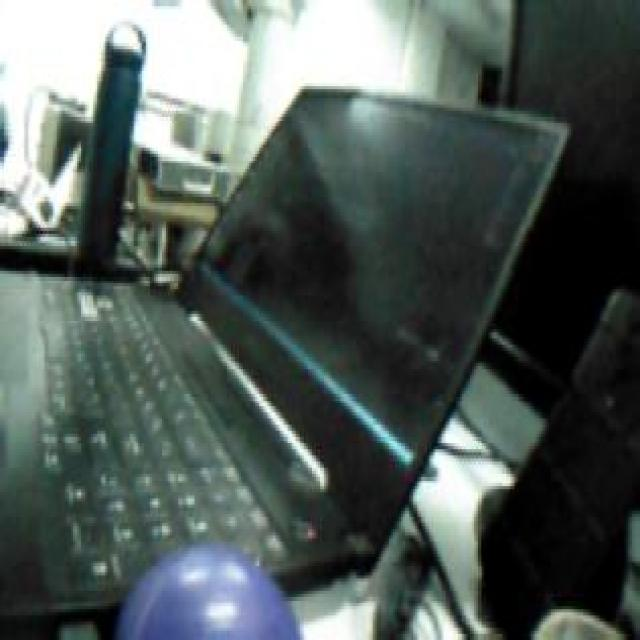BallPurple: (118, 548, 301, 640)
